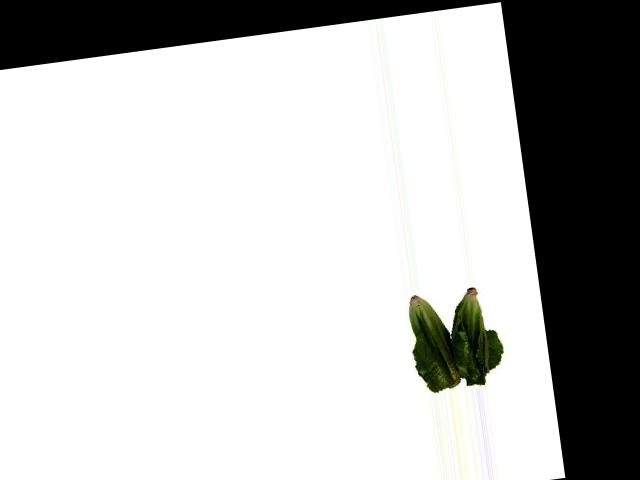lettuce: (400, 284, 497, 395)
